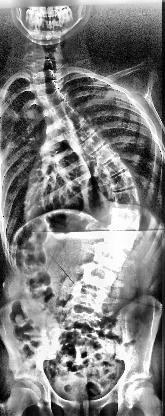Vertebrae: (63, 308, 103, 335), (70, 283, 112, 308), (95, 242, 129, 272), (84, 262, 118, 290), (108, 206, 140, 232), (78, 128, 106, 156), (109, 187, 144, 209), (60, 110, 92, 134), (106, 228, 136, 252), (109, 172, 139, 194), (93, 142, 120, 166), (38, 90, 70, 110), (50, 101, 76, 125), (69, 122, 97, 144), (103, 154, 128, 178)
